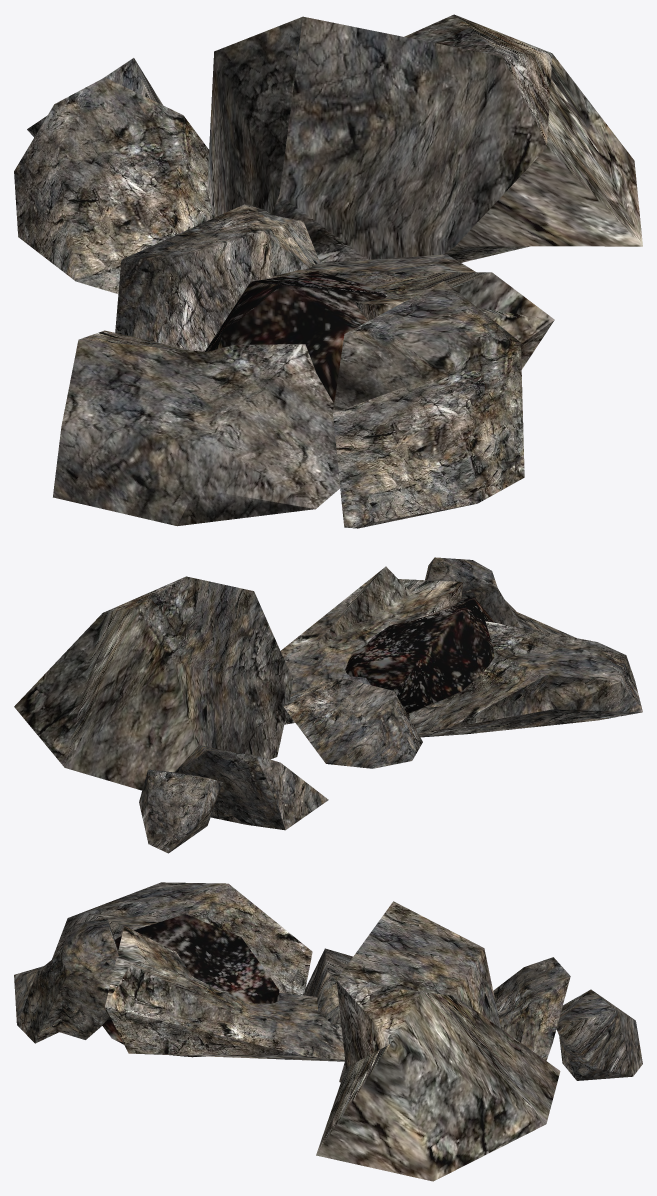
File: pir_m_prp_cav_rockGroupIron_f.fbx
The picture shows the model from 3 angles, top to bottom: view 1: azimuth 30°, elevation 25°; view 2: azimuth 150°, elevation 25°; view 3: azimuth 270°, elevation 25°; orthographic projection. The views are drawn at different scales.
Visible parts, largest first — view 1: rock_3, rock_1, rock_6, rock_2, rock_5, rock_7, rock_0, rock_4; view 2: rock_3, rock_1, rock_7, rock_0, rock_5, rock_2, rock_4, rock_6; view 3: rock_3, rock_0, rock_1, rock_6, rock_7, rock_4, rock_2, rock_5.
Boxes of the visible parts, left/top/right/bottom form: rock_3: left=207, top=14, right=642, bottom=262; rock_1: left=53, top=330, right=340, bottom=526; rock_6: left=333, top=281, right=524, bottom=528; rock_2: left=14, top=77, right=214, bottom=293; rock_5: left=115, top=204, right=319, bottom=351; rock_7: left=204, top=271, right=386, bottom=403; rock_0: left=263, top=254, right=554, bottom=369; rock_4: left=27, top=58, right=162, bottom=137; rock_3: left=14, top=576, right=293, bottom=790; rock_1: left=409, top=621, right=642, bottom=737; rock_7: left=345, top=597, right=494, bottom=717; rock_0: left=280, top=566, right=463, bottom=724; rock_5: left=283, top=677, right=422, bottom=768; rock_2: left=175, top=745, right=328, bottom=830; rock_4: left=139, top=769, right=222, bottom=853; rock_6: left=425, top=557, right=575, bottom=637; rock_3: left=316, top=901, right=560, bottom=1181; rock_0: left=105, top=926, right=345, bottom=1061; rock_1: left=52, top=882, right=312, bottom=995; rock_6: left=14, top=918, right=118, bottom=1043; rock_7: left=102, top=914, right=279, bottom=1057; rock_4: left=556, top=989, right=642, bottom=1080; rock_2: left=493, top=957, right=570, bottom=1060; rock_5: left=302, top=948, right=352, bottom=1024.
Size of the model in its own units: 2679 by 904 by 2790.
2 materials, 2 textured.
